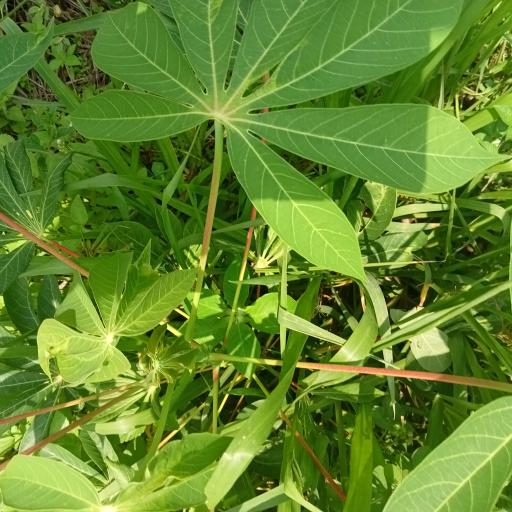Cassava_Healthy: (65, 0, 508, 278), (37, 253, 202, 386)
